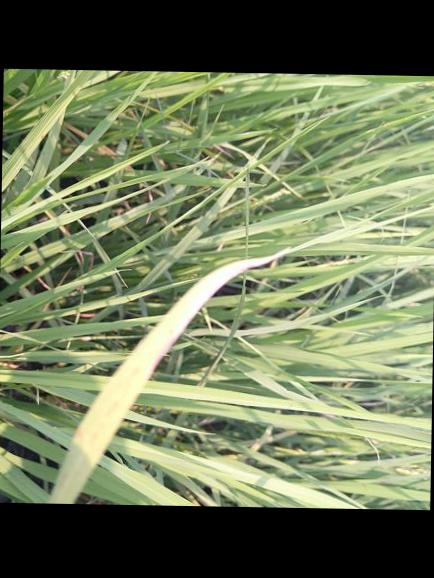Leaf Blight: (43, 245, 290, 504)
